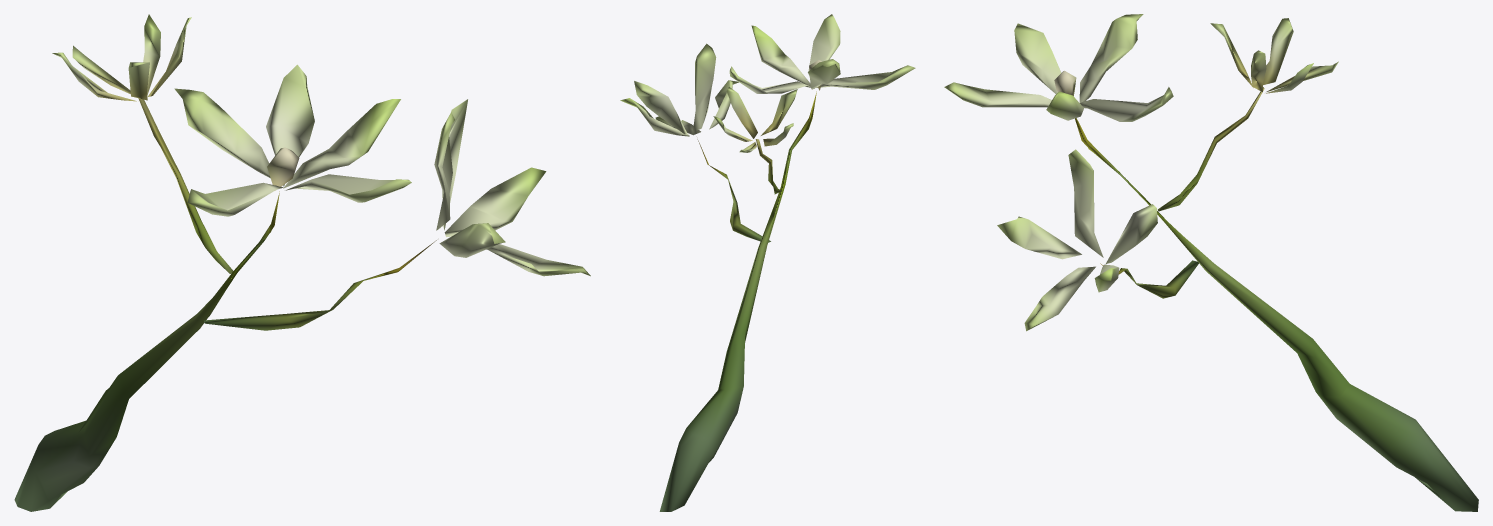
The picture shows the model from 3 angles, left to right: view 1: azimuth 30°, elevation 25°; view 2: azimuth 150°, elevation 25°; view 3: azimuth 270°, elevation 25°; orthographic projection. The views are drawn at different scales.
Visible parts, largest first — view 1: LOD 3_66885528158422731_bb9398364d468ec489d5e3c54dd32286; view 2: LOD 3_66885528158422731_bb9398364d468ec489d5e3c54dd32286; view 3: LOD 3_66885528158422731_bb9398364d468ec489d5e3c54dd32286.
Part boxes in pixels (x1,y1,x2,y2): LOD 3_66885528158422731_bb9398364d468ec489d5e3c54dd32286: (14,14,590,511); LOD 3_66885528158422731_bb9398364d468ec489d5e3c54dd32286: (620,14,915,511); LOD 3_66885528158422731_bb9398364d468ec489d5e3c54dd32286: (944,14,1478,511).
Bounding box in the file's own units: 7.97 × 10.57 × 10.85.
